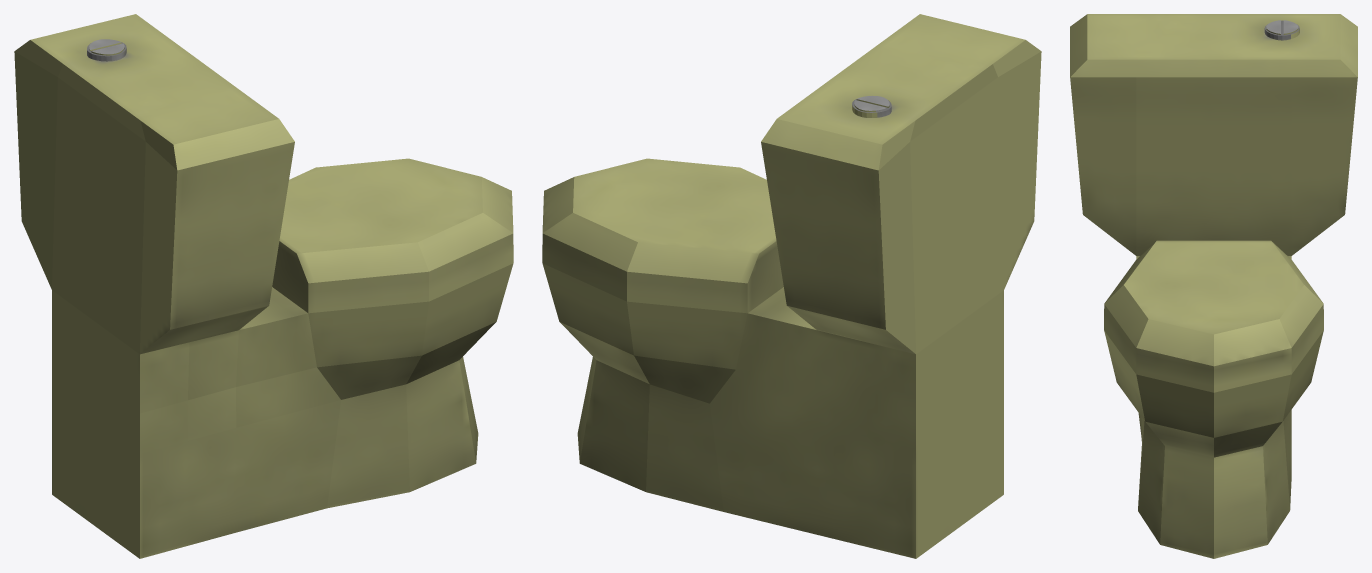
The model's file is toilet.obj.
The picture shows the model from 3 angles, left to right: view 1: azimuth 30°, elevation 25°; view 2: azimuth 150°, elevation 25°; view 3: azimuth 270°, elevation 25°; orthographic projection. The views are drawn at different scales.
Parts seen in each view (by area): view 1: toilet; view 2: toilet; view 3: toilet.
Part boxes in pixels (x1,y1,x2,y2): toilet: (14, 14, 513, 558); toilet: (542, 14, 1041, 558); toilet: (1070, 14, 1357, 558).
Size of the model in its own units: 0.9558 by 0.9646 by 0.6478.
